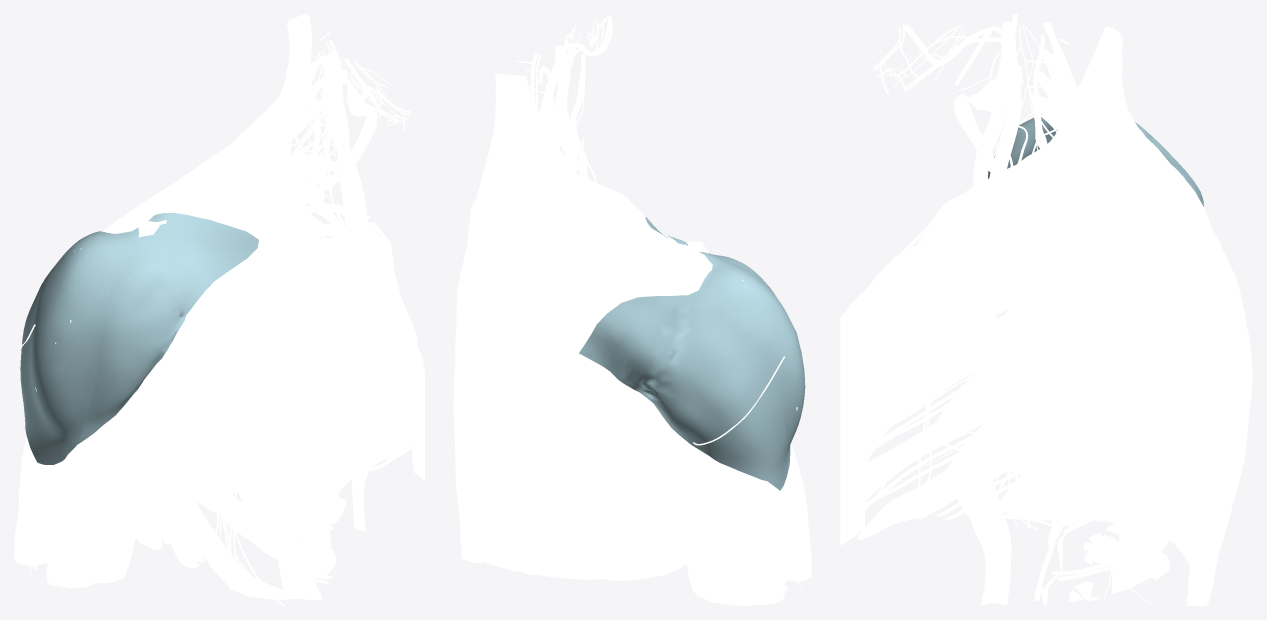
File: shoulder_axilla.glb
3 views of the same model, side by side, from view 1: azimuth 30°, elevation 25°; view 2: azimuth 150°, elevation 25°; view 3: azimuth 270°, elevation 25° (orthographic). The views are drawn at different scales.
Parts seen in each view (by area): view 1: Sternocostal head of pectoralis major muscle.r, Deltoid fascia.r, Clavicular head of pectoralis major muscle.r, Ascending part of trapezius muscle.r, Serratus anterior muscle.r, Long head of biceps brachii.r, Short head of biceps brachii.r, (Abdominal part of pectoralis major muscle).r, Lateral head of triceps brachii.r, Clavicle.r, Latissimus dorsi muscle.r, Internal jugular vein.r.001 (+16 smaller); view 2: Deltoid fascia.r, Descending part of trapezius muscle.r, Latissimus dorsi muscle.r, Transverse part of trapezius muscle.r, Ascending part of trapezius muscle.r, Lateral head of triceps brachii.r, Long head of triceps brachii.r, Infraspinatus muscle.r, Long head of biceps brachii.r, Scapula.r, Teres major muscle.r, Clavicle.r (+7 smaller); view 3: Serratus anterior muscle.r, Descending part of trapezius muscle.r, Sixth rib.r, Fifth rib.r, Seventh rib.r, Posterior intercostal arteries.r.001, Right superior intercostal vein.001, Internal intercostal membrane.r, Ascending part of trapezius muscle.r, Fourth rib.r, Levator scapulae.r, Third rib.r (+35 smaller).
Boxes of the visible parts, x1,y1,x2,y2 form: Sternocostal head of pectoralis major muscle.r: (135,267,424,548); Deltoid fascia.r: (20,213,258,464); Clavicular head of pectoralis major muscle.r: (139,247,369,387); Ascending part of trapezius muscle.r: (164,14,312,227); Serratus anterior muscle.r: (150,214,290,571); Long head of biceps brachii.r: (46,408,122,588); Short head of biceps brachii.r: (94,392,146,583); (Abdominal part of pectoralis major muscle).r: (160,390,304,584); Lateral head of triceps brachii.r: (14,437,61,565); Clavicle.r: (150,207,380,262); Latissimus dorsi muscle.r: (136,401,223,549); Internal jugular vein.r.001: (330,51,360,228); Deltoid fascia.r: (579,217,805,490); Descending part of trapezius muscle.r: (453,294,629,563); Latissimus dorsi muscle.r: (483,429,686,580); Transverse part of trapezius muscle.r: (456,201,709,300); Ascending part of trapezius muscle.r: (476,73,655,249); Lateral head of triceps brachii.r: (708,456,785,605); Long head of triceps brachii.r: (671,428,724,604); Infraspinatus muscle.r: (536,356,631,452); Long head of biceps brachii.r: (774,444,808,581); Scapula.r: (534,256,712,465); Teres major muscle.r: (591,412,670,461); Clavicle.r: (579,178,687,255); Serratus anterior muscle.r: (915,171,1206,523); Descending part of trapezius muscle.r: (1177,204,1252,605); Sixth rib.r: (842,335,1192,517); Fifth rib.r: (853,282,1173,452); Seventh rib.r: (860,387,1190,535); Posterior intercostal arteries.r.001: (840,220,1179,580); Right superior intercostal vein.001: (840,192,1175,577); Internal intercostal membrane.r: (1070,194,1183,593); Ascending part of trapezius muscle.r: (1021,27,1181,204); Fourth rib.r: (870,237,1155,400); Levator scapulae.r: (1032,22,1172,227); Third rib.r: (881,198,1129,374).
Bounding box in the file's own units: 0.2231 × 0.34 × 0.2251.
